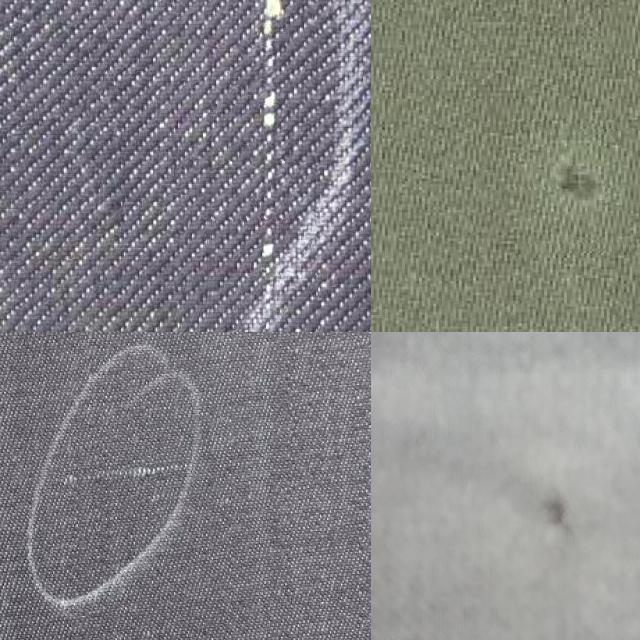Thread_other: (204, 0, 317, 332), (59, 446, 193, 494)
seam: (509, 119, 640, 254), (486, 459, 618, 579)
